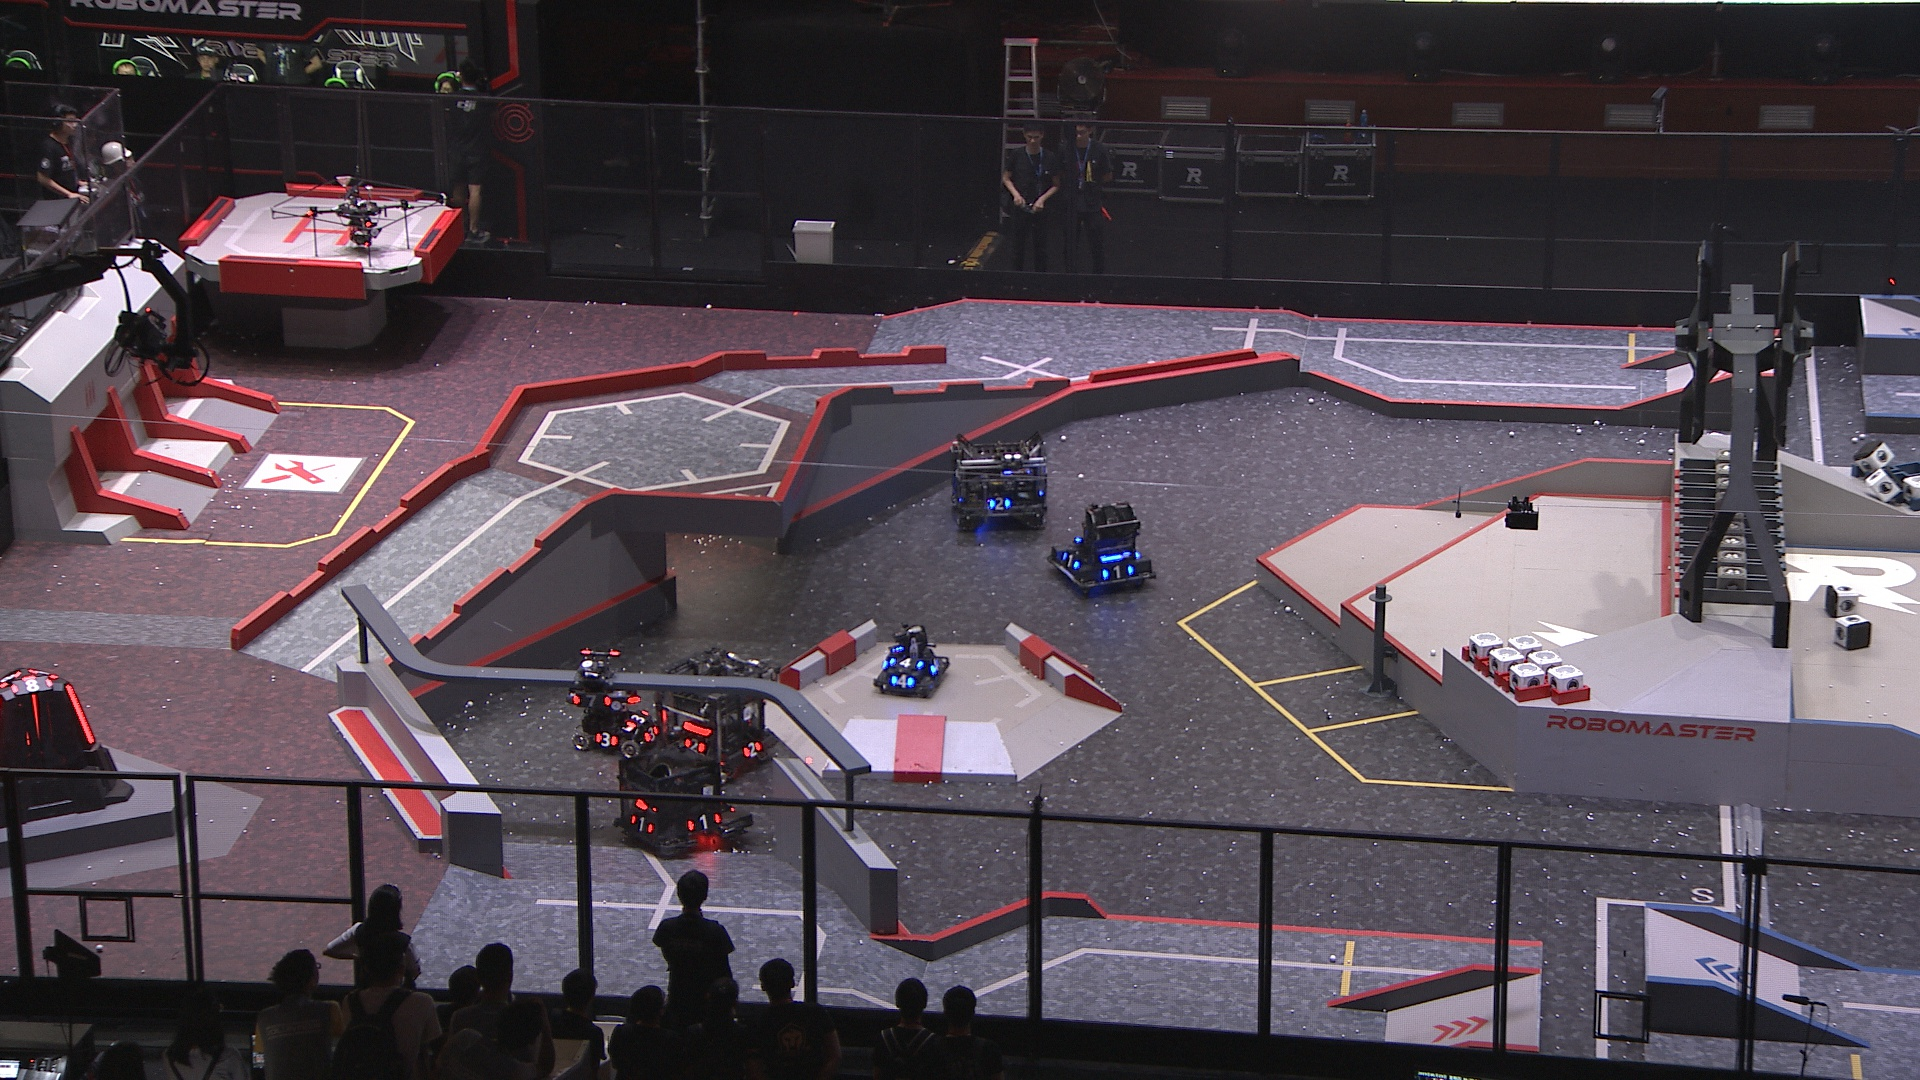armor: (62, 683, 95, 745), (8, 671, 57, 695), (684, 808, 723, 833), (572, 690, 611, 712), (26, 692, 44, 736), (629, 811, 655, 836), (683, 735, 708, 760), (591, 731, 621, 750), (1101, 564, 1135, 582), (889, 651, 923, 669), (740, 740, 766, 760), (986, 495, 1013, 513), (889, 671, 916, 688), (628, 707, 650, 728), (637, 725, 659, 744), (927, 655, 944, 678), (1060, 553, 1081, 570)
car: (647, 642, 787, 782), (611, 731, 756, 861), (1044, 495, 1162, 597), (949, 427, 1055, 533), (566, 687, 667, 761), (868, 622, 953, 700)
watcher: (566, 645, 632, 731)
